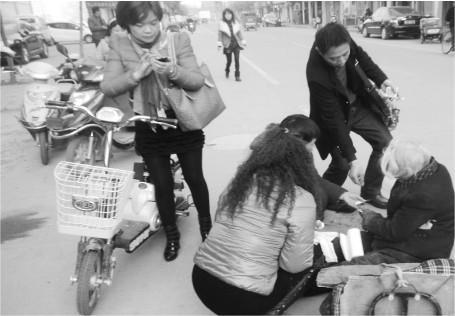bending: (187, 134, 356, 316), (327, 136, 455, 282), (302, 17, 398, 210)
up: (105, 1, 206, 267), (217, 7, 249, 82)
